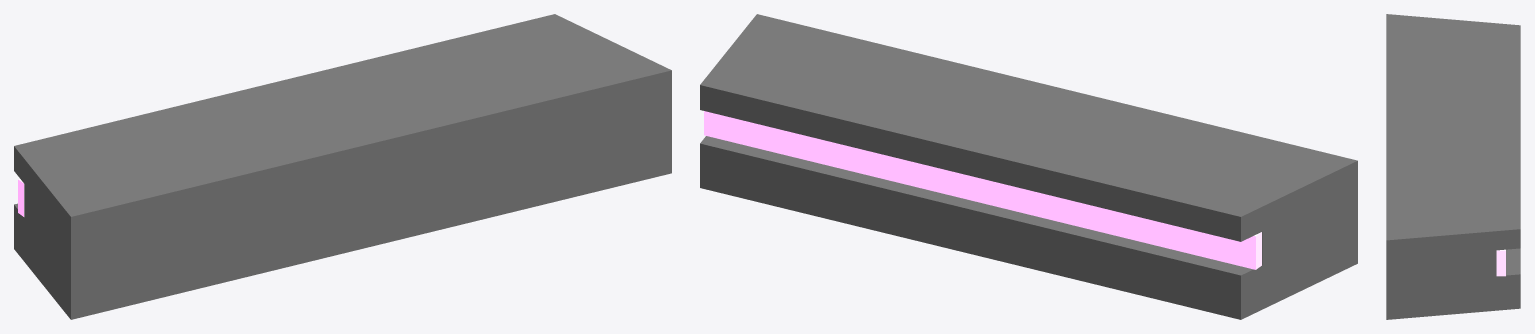
The model's file is table.gltf.
3 views of the same model, side by side, from view 1: azimuth 30°, elevation 25°; view 2: azimuth 150°, elevation 25°; view 3: azimuth 270°, elevation 25° (orthographic). The views are drawn at different scales.
Parts seen in each view (by area): view 1: polySurface82; view 2: polySurface82; view 3: polySurface82.
Boxes of the visible parts, left/top/right/bottom form: polySurface82: left=14, top=14, right=671, bottom=319; polySurface82: left=700, top=14, right=1357, bottom=319; polySurface82: left=1386, top=14, right=1520, bottom=319.
Bounding box in the file's own units: 0.0957 × 0.0157 × 0.024.
